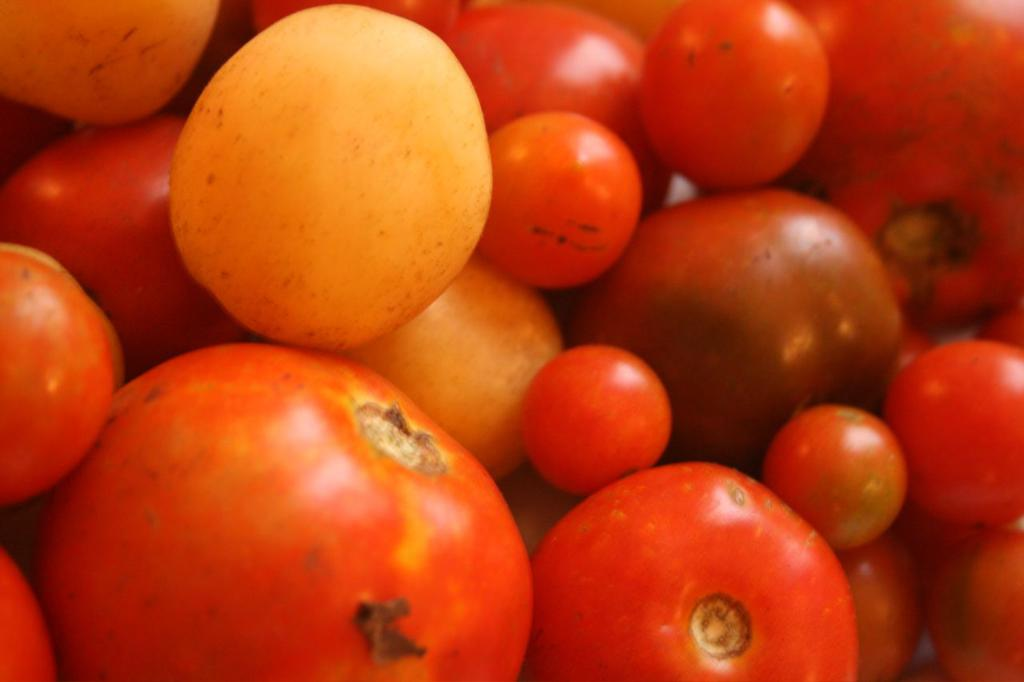Tomato: (0, 0, 1023, 681), (507, 339, 675, 495)
